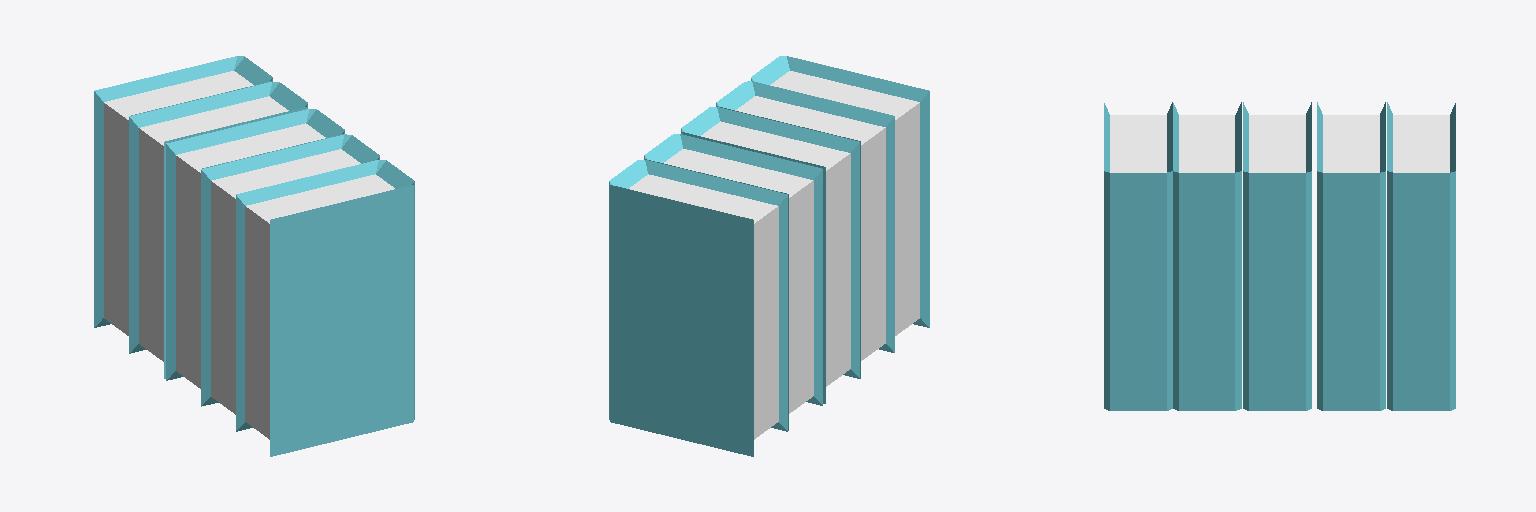
The picture shows the model from 3 angles: view 1: azimuth 30°, elevation 25°; view 2: azimuth 150°, elevation 25°; view 3: azimuth 270°, elevation 25°; orthographic projection.
Parts seen in each view (by area): view 1: group[number redacted], group[number redacted], group[number redacted], group[number redacted], group[number redacted]; view 2: group[number redacted], group[number redacted], group[number redacted], group[number redacted], group[number redacted]; view 3: group[number redacted], group[number redacted], group[number redacted], group[number redacted], group[number redacted].
Part boxes in pixels (left/top/right/bottom): group[number redacted]: left=236, top=160, right=414, bottom=456; group[number redacted]: left=129, top=82, right=307, bottom=378; group[number redacted]: left=166, top=109, right=344, bottom=388; group[number redacted]: left=94, top=56, right=272, bottom=335; group[number redacted]: left=201, top=134, right=379, bottom=414; group[number redacted]: left=609, top=160, right=787, bottom=456; group[number redacted]: left=681, top=107, right=859, bottom=403; group[number redacted]: left=644, top=134, right=822, bottom=430; group[number redacted]: left=716, top=81, right=894, bottom=378; group[number redacted]: left=751, top=56, right=929, bottom=335; group[number redacted]: left=1317, top=102, right=1385, bottom=410; group[number redacted]: left=1243, top=102, right=1311, bottom=410; group[number redacted]: left=1173, top=102, right=1241, bottom=410; group[number redacted]: left=1387, top=102, right=1455, bottom=410; group[number redacted]: left=1104, top=102, right=1172, bottom=410.
Bounding box in the file's own units: 0.272 × 0.42 × 0.562.